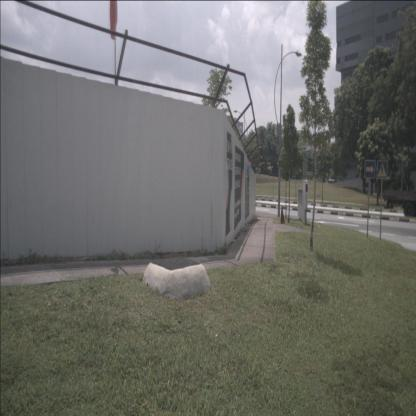movable_object-trafficcone: (280, 206, 285, 224)
vehicle-truck: (383, 177, 415, 219)
